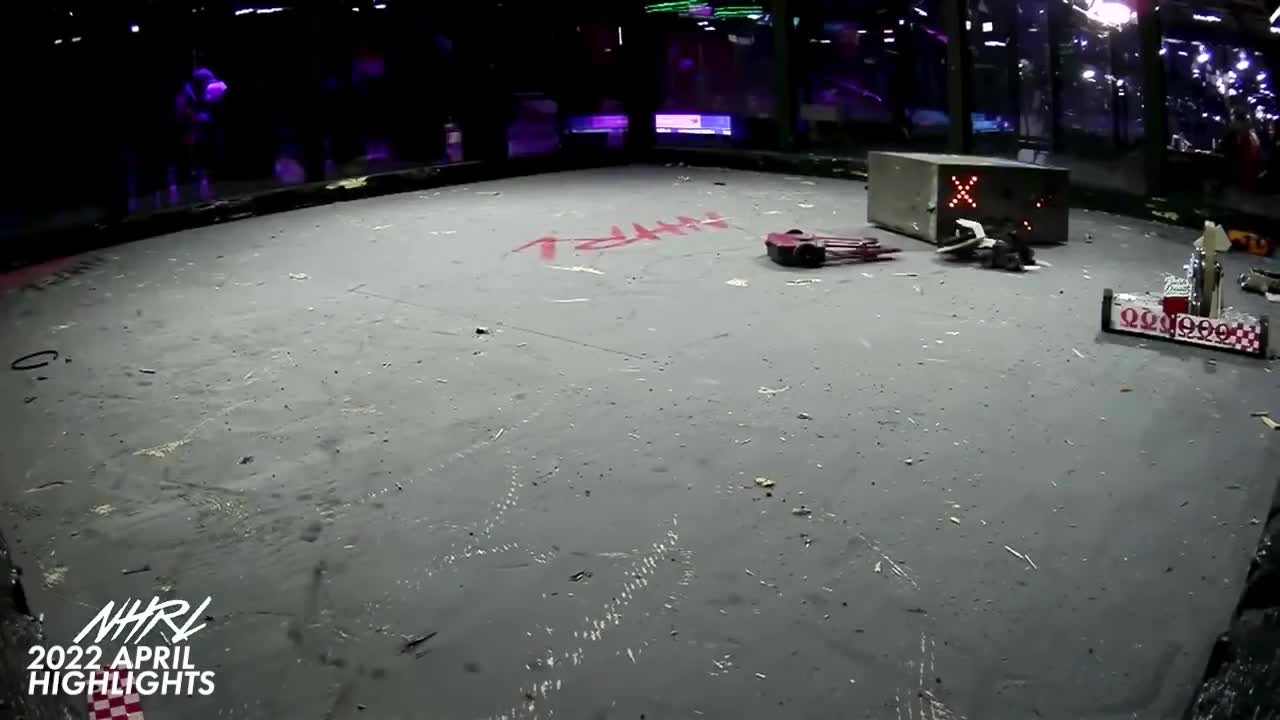combatbot: (1097, 278, 1277, 357), (763, 229, 899, 266), (934, 237, 1043, 270)
housebot: (869, 152, 1070, 251)
